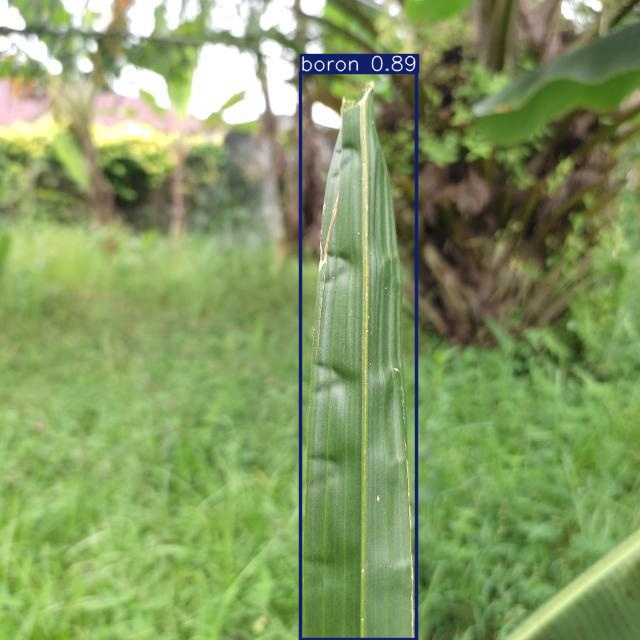nitrogen: (300, 73, 417, 640)
